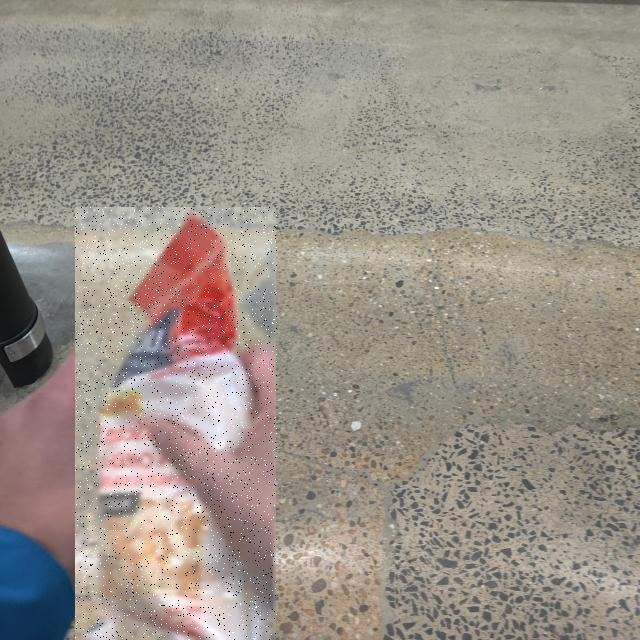Cheese: (76, 207, 278, 640)
